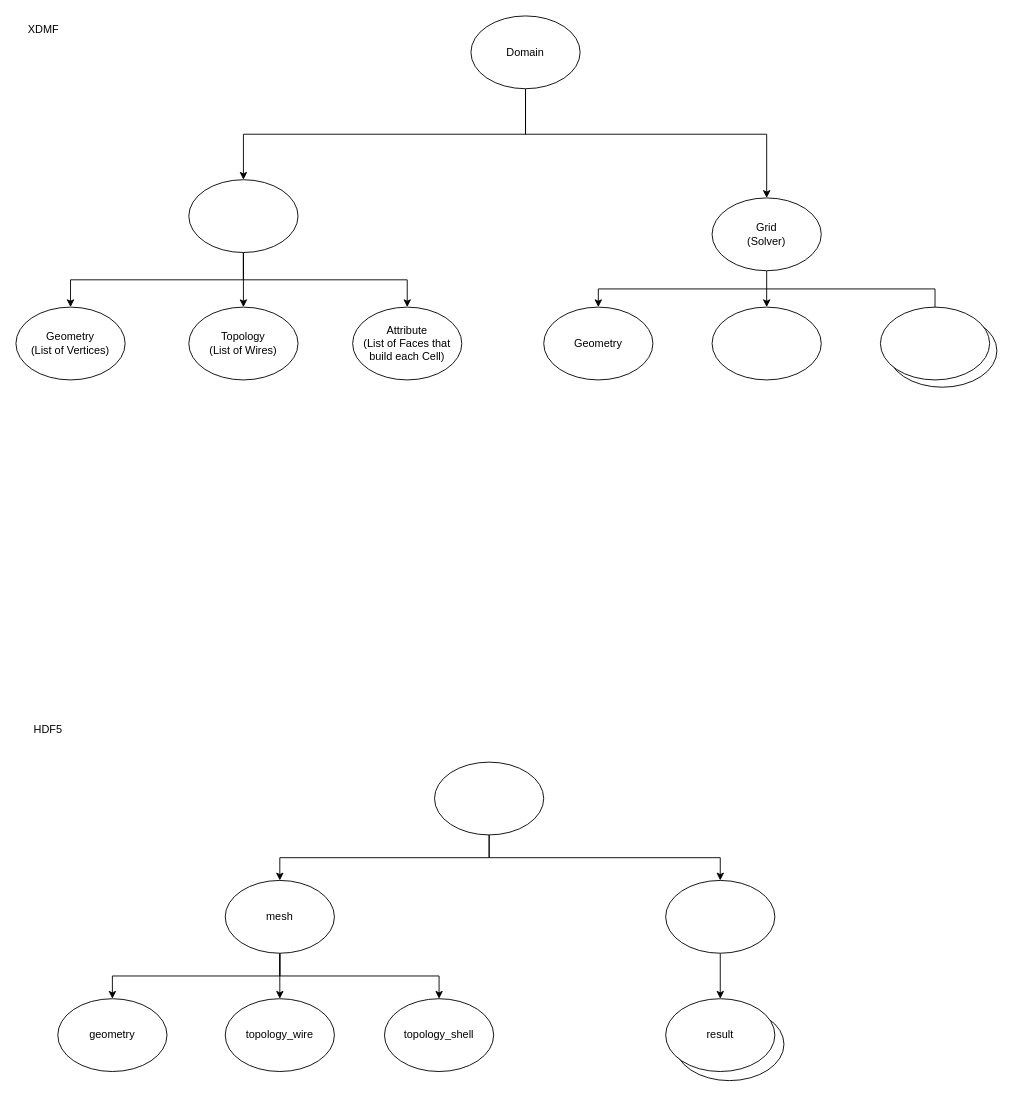
This 1013x1097 diagram has some shape labels left out. The shapes that lost their labels are listed below. From the top down, each one's box as (x1, y1, x2, y2) in pixels, then its label:
(188, 179, 298, 253): Grid (Mesh)
(711, 306, 821, 380): Topology
(880, 306, 990, 380): Attribute (Result)
(434, 761, 544, 835): root
(665, 880, 775, 953): solver
